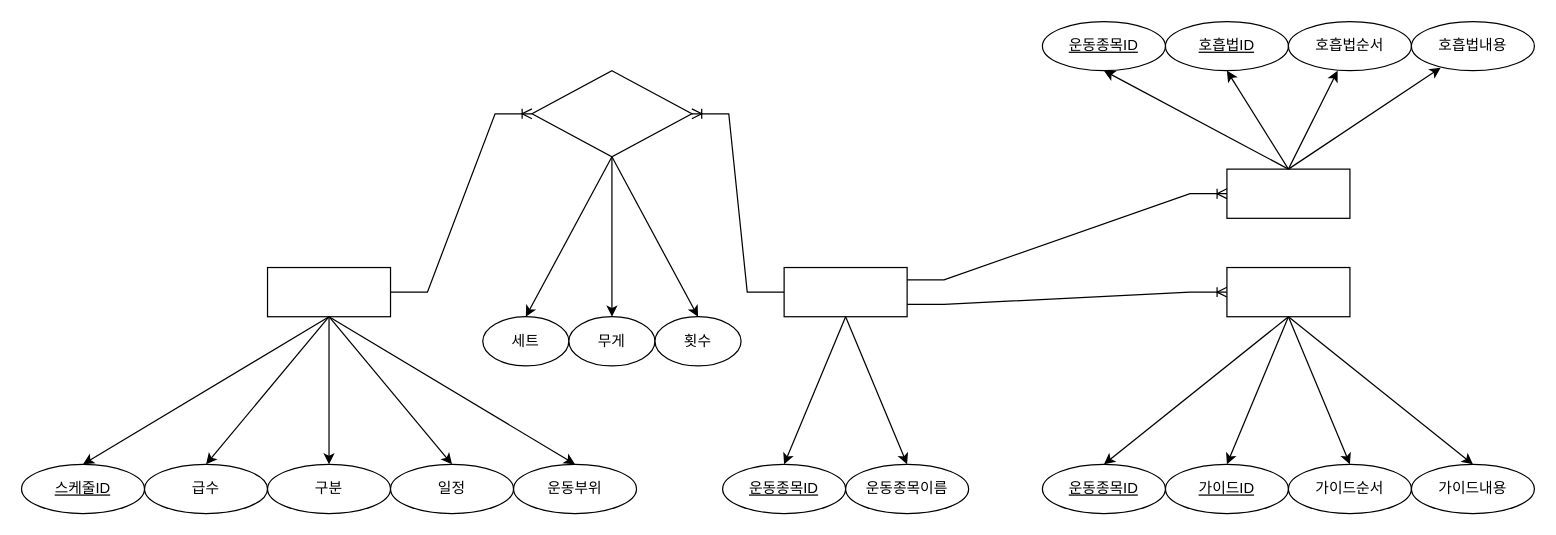
Image size: 1556x535. Some labels were removed from this diagram. Here are the shapes that lost their labels. From the top down, the box of each, then its label:
(531, 69, 692, 157): 스케줄별 운동종목
(1226, 168, 1350, 218): 호흡법
(266, 266, 391, 317): 운동스케줄
(783, 266, 907, 317): 운동종목
(1226, 266, 1350, 317): 운동가이드
